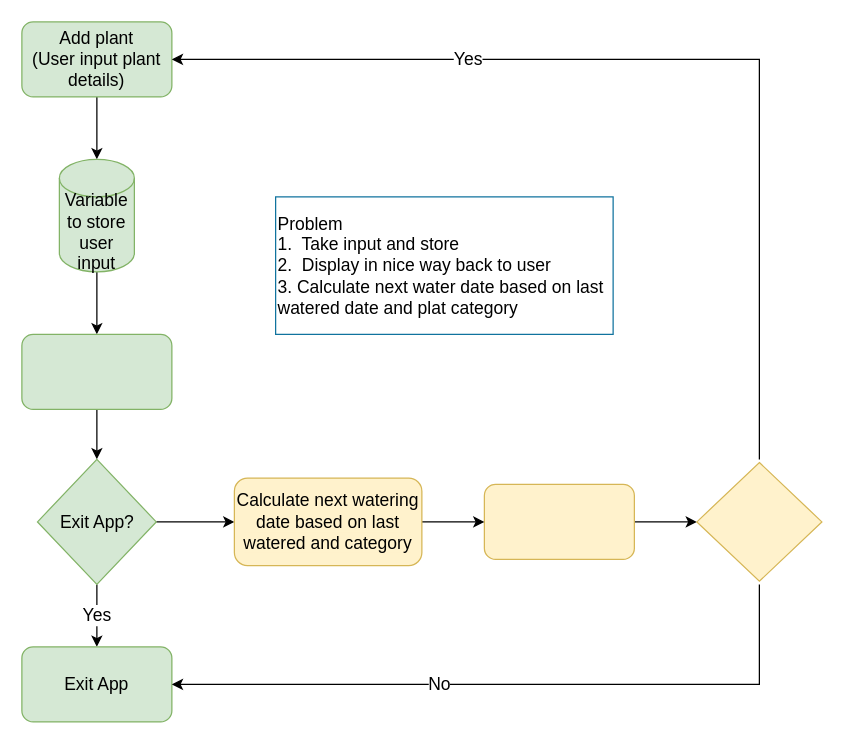
The diagram is 844 pixels wide and 744 high, and some of its shapes have lost their labels. Each missing label, with the centre of its shape:
"Add another plant" goes at (759,521).
"Confirm to user plant details inputed was store" goes at (96,371).
"Display next water date" goes at (558,521).
